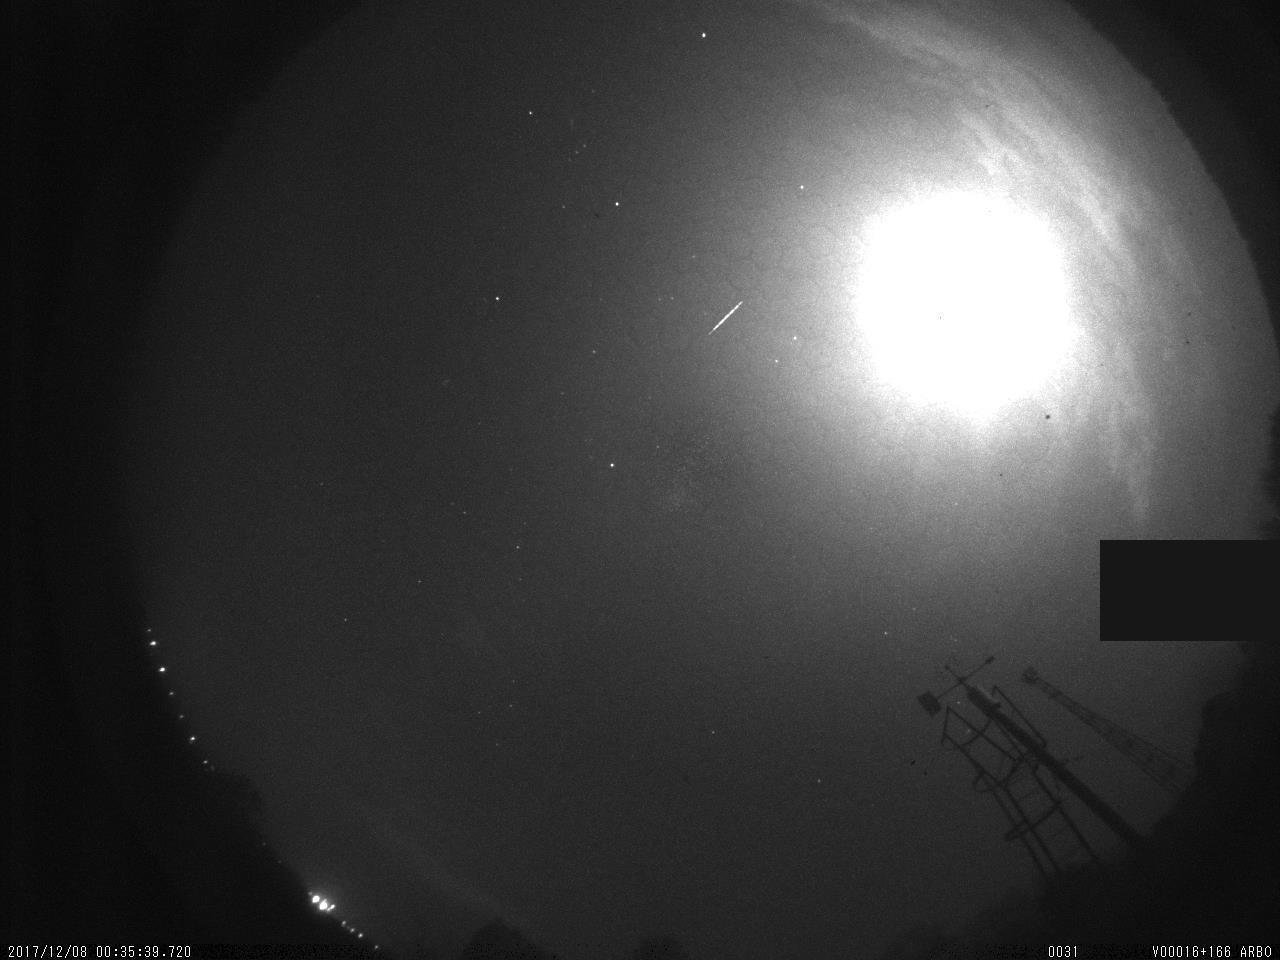Meteor: (702, 294, 750, 342)
